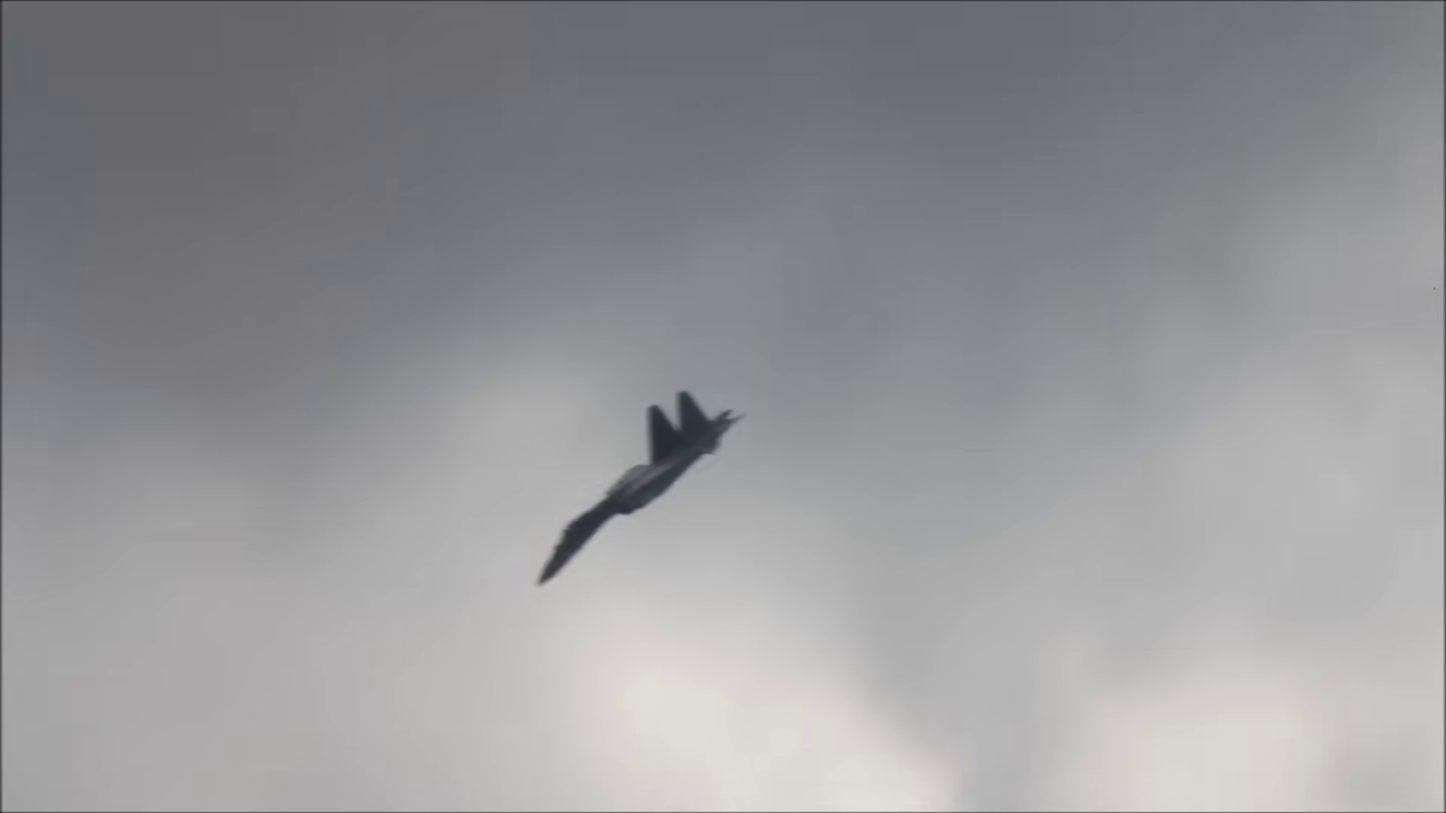Su35: (531, 384, 753, 595)
